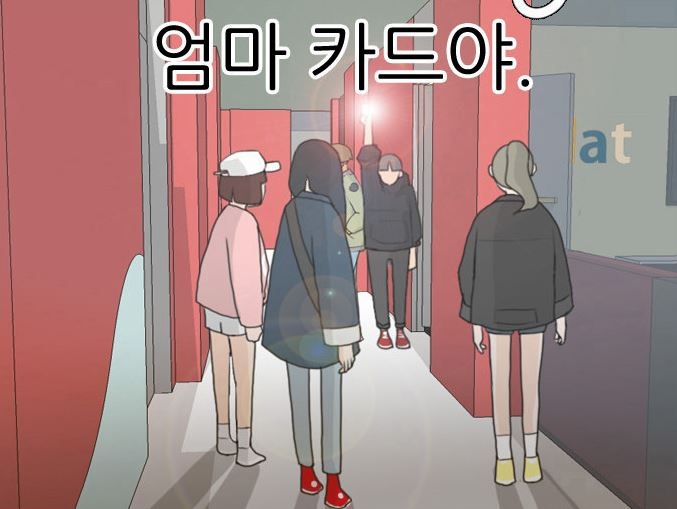hat: (216, 150, 283, 177)
